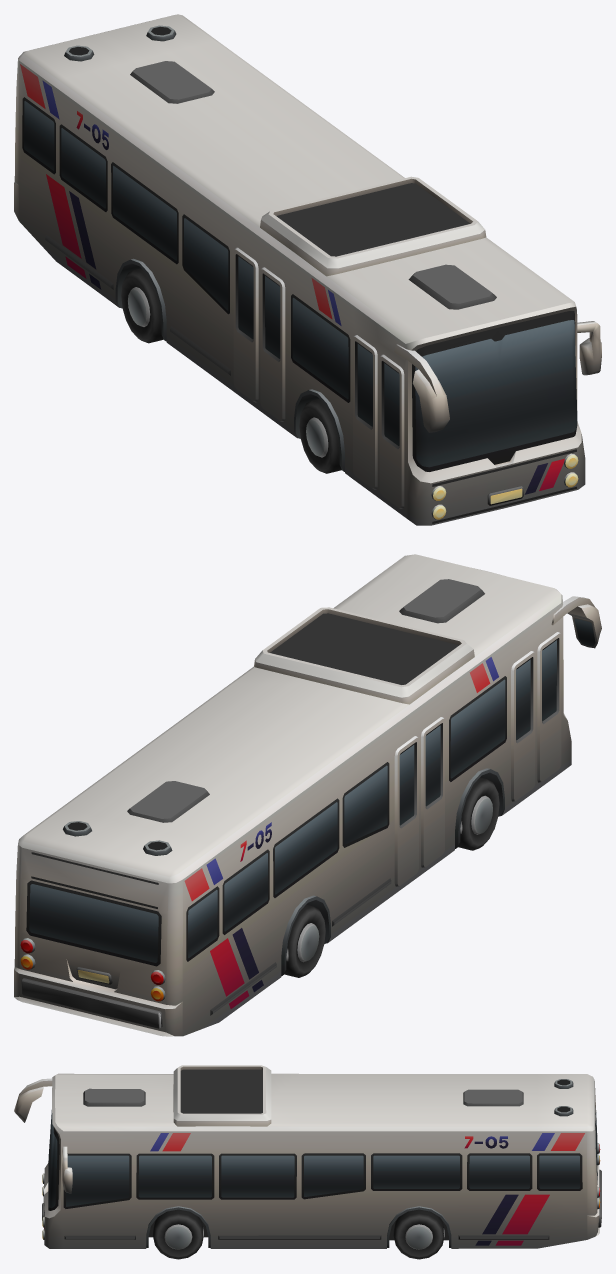
File: Car_17B_white.fbx
The picture shows the model from 3 angles, top to bottom: view 1: azimuth 30°, elevation 25°; view 2: azimuth 150°, elevation 25°; view 3: azimuth 270°, elevation 25°; orthographic projection. The views are drawn at different scales.
Visible parts, largest first — view 1: Car_17B.001, Wheel_17B_R.R.001, Wheel_17B_F.R.001; view 2: Car_17B.001, Wheel_17B_F.R.001, Wheel_17B_R.R.001; view 3: Car_17B.001, Wheel_17B_R.L.001, Wheel_17B_F.L.001, Livery_17B.001.
Part boxes in pixels (bbox=[...]): Car_17B.001: bbox=[14, 14, 601, 525]; Wheel_17B_R.R.001: bbox=[121, 268, 163, 343]; Wheel_17B_F.R.001: bbox=[299, 398, 341, 473]; Car_17B.001: bbox=[14, 554, 601, 1036]; Wheel_17B_F.R.001: bbox=[458, 777, 499, 850]; Wheel_17B_R.R.001: bbox=[284, 904, 325, 977]; Car_17B.001: bbox=[14, 1065, 601, 1248]; Wheel_17B_R.L.001: bbox=[393, 1209, 444, 1259]; Wheel_17B_F.L.001: bbox=[153, 1209, 203, 1259]; Livery_17B.001: bbox=[464, 1136, 508, 1148].
Bounding box in the file's own units: 103 × 98.64 × 373.
